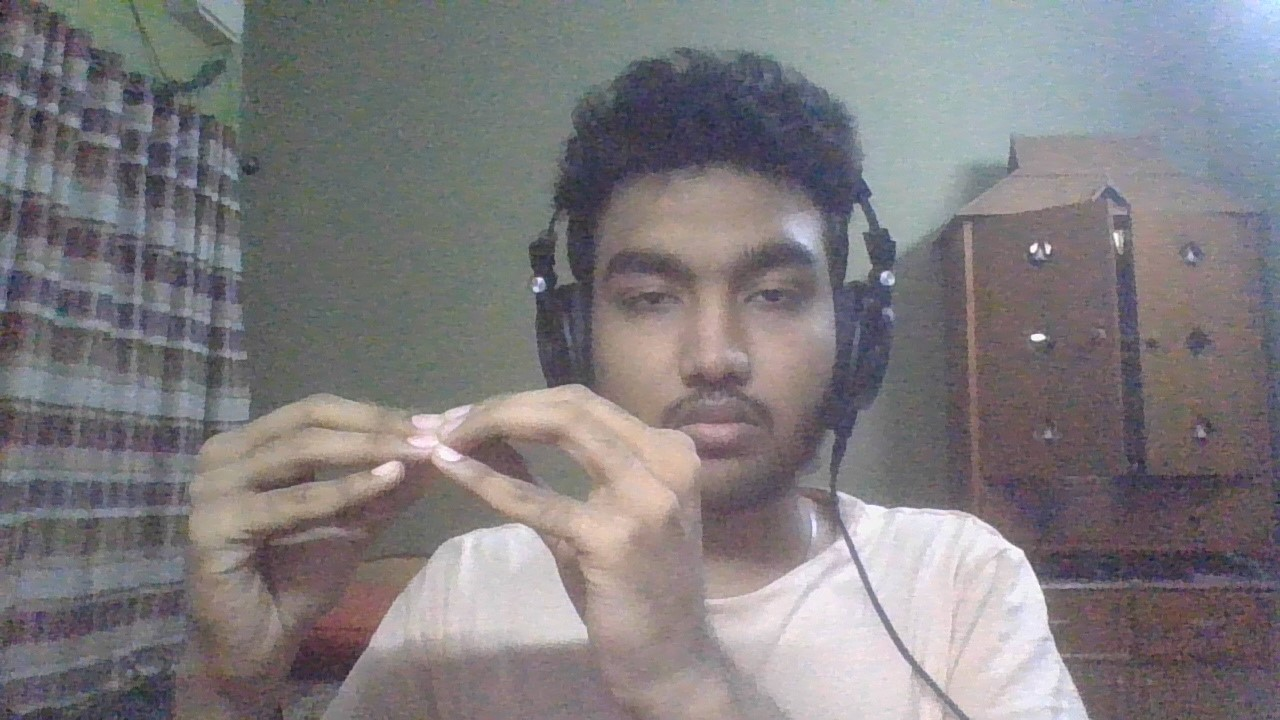More: (166, 379, 756, 677)
